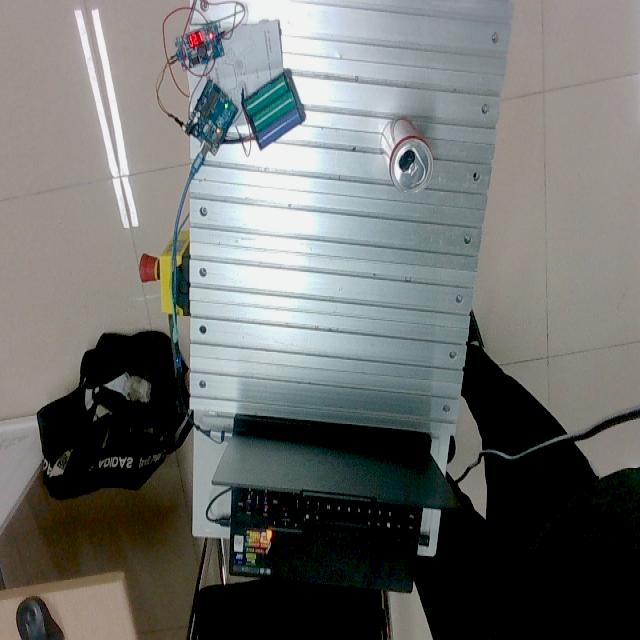coca: (380, 119, 433, 194)
